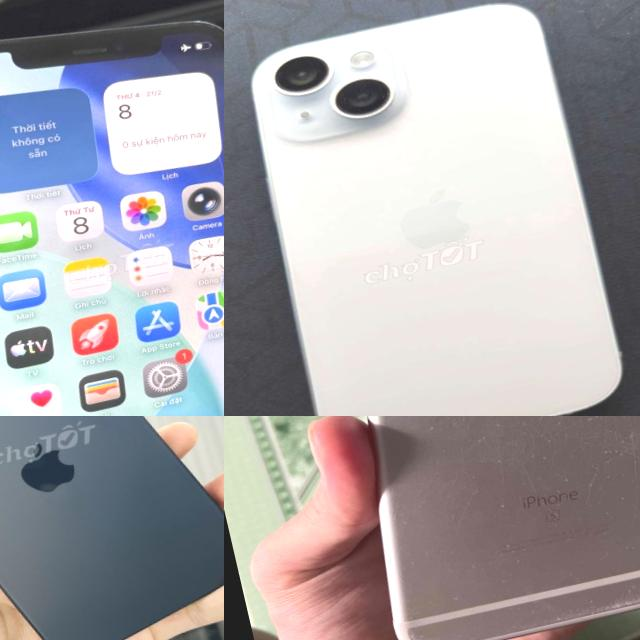scratch: (425, 416, 640, 541), (543, 537, 640, 633), (395, 602, 488, 640)
